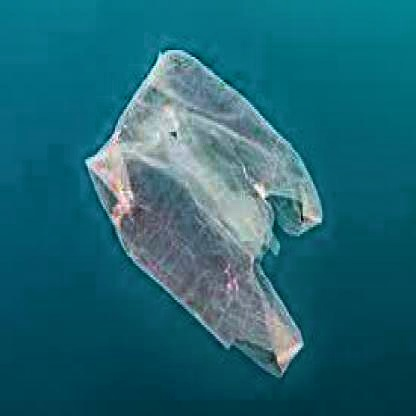pbag: (83, 47, 322, 380)
